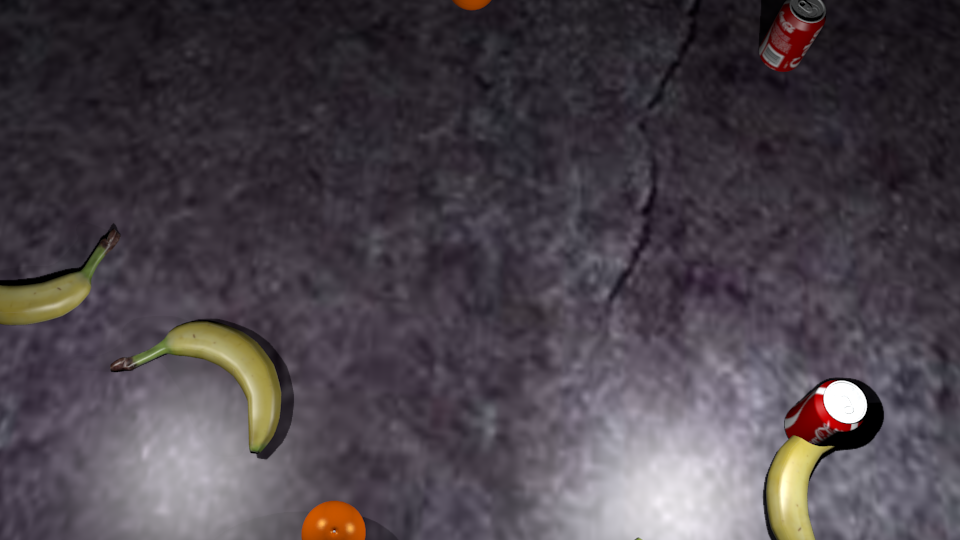banana: (111, 323, 282, 453), (1, 230, 121, 325), (767, 423, 858, 540), (635, 509, 799, 540)
cola_can: (785, 381, 868, 449), (761, 1, 825, 72)
orange: (302, 501, 366, 540), (454, 1, 491, 11)
